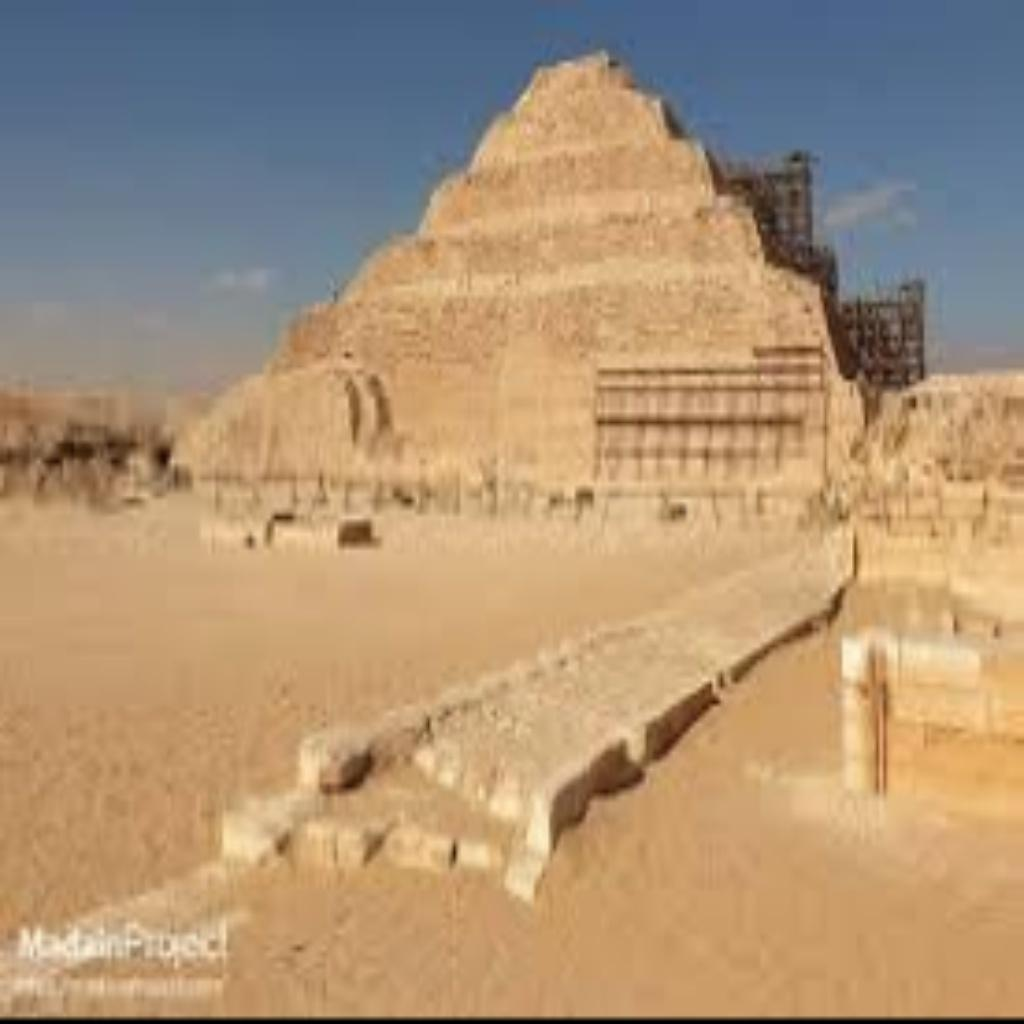Pyramid of Djoser: (190, 45, 880, 515)
